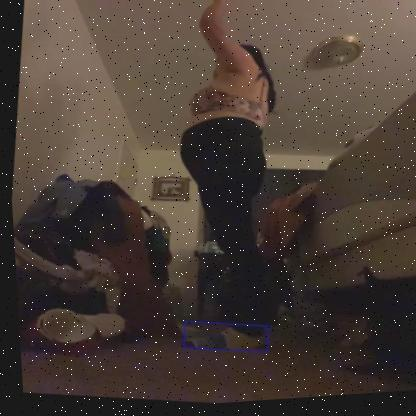person: (145, 0, 310, 365)
